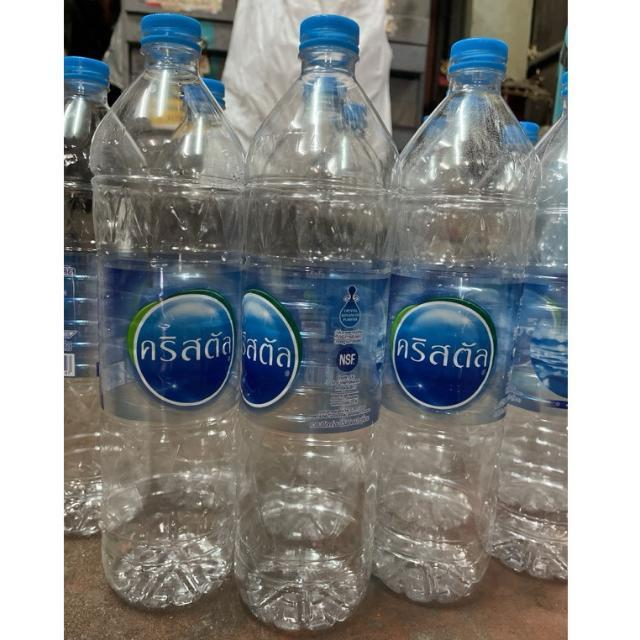PET Bottle: (384, 9, 546, 605), (244, 19, 394, 638), (88, 7, 238, 599), (525, 47, 613, 602), (58, 24, 152, 538)
